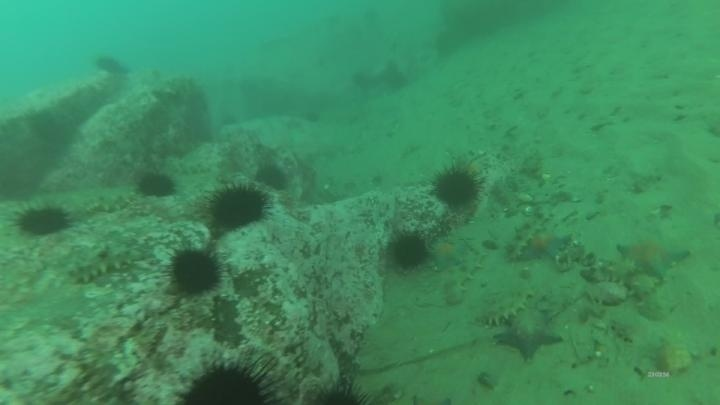echinus: (176, 357, 279, 404), (206, 181, 271, 233), (165, 246, 224, 299), (430, 163, 482, 211), (302, 376, 378, 405), (13, 202, 72, 239), (387, 229, 430, 272), (135, 169, 178, 200), (254, 162, 290, 192), (91, 51, 129, 76), (304, 104, 323, 121)
holothurian: (64, 242, 144, 287), (471, 285, 537, 330), (441, 246, 487, 306), (633, 257, 670, 321), (579, 256, 644, 290), (78, 184, 139, 218), (504, 217, 540, 263)
starfish: (491, 309, 564, 363), (615, 231, 692, 281), (519, 228, 572, 263), (427, 235, 469, 271), (451, 149, 489, 183)
